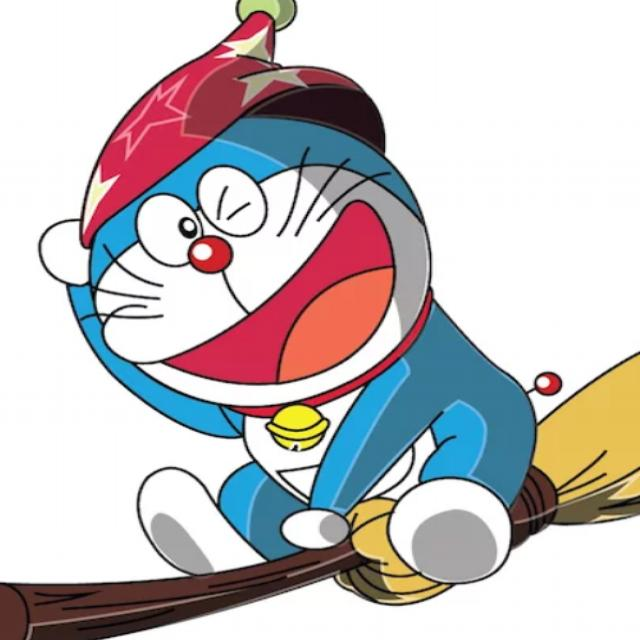Ameng: (32, 39, 488, 420)
